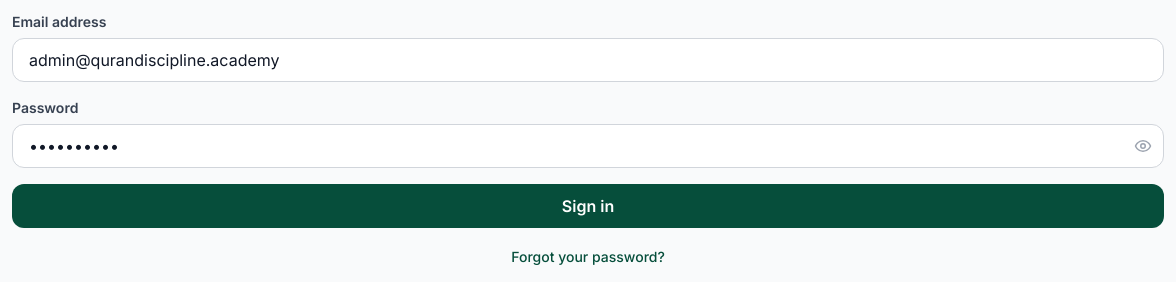
Scenario: LoginForm › toggles password visibility
Click the button named "show password" at (1143, 146), box [1134,137,1152,155]
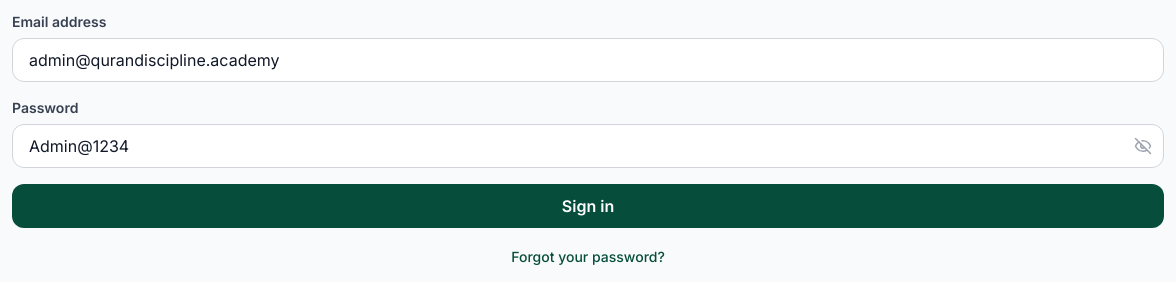
Now the field with placeholder "Enter your password" shows its text, box [12,124,1164,168]
Now the button named "hide password" is shown
Click the button named "hide password" at (1143, 146), box [1134,137,1152,155]
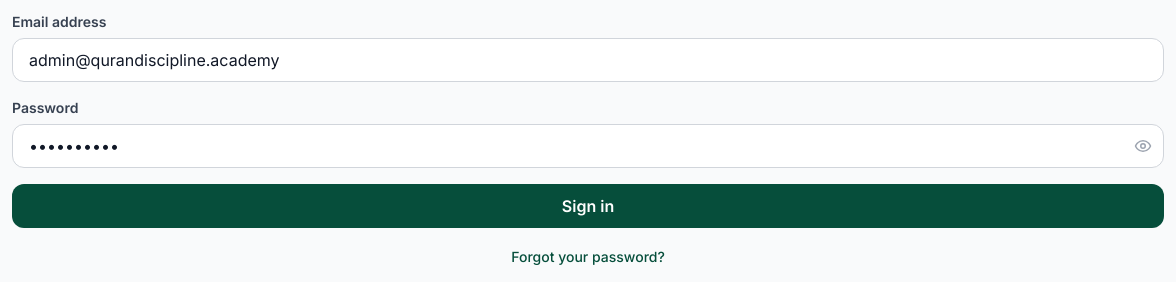
Now the password field with placeholder "Enter your password" hides its text, box [12,124,1164,168]
